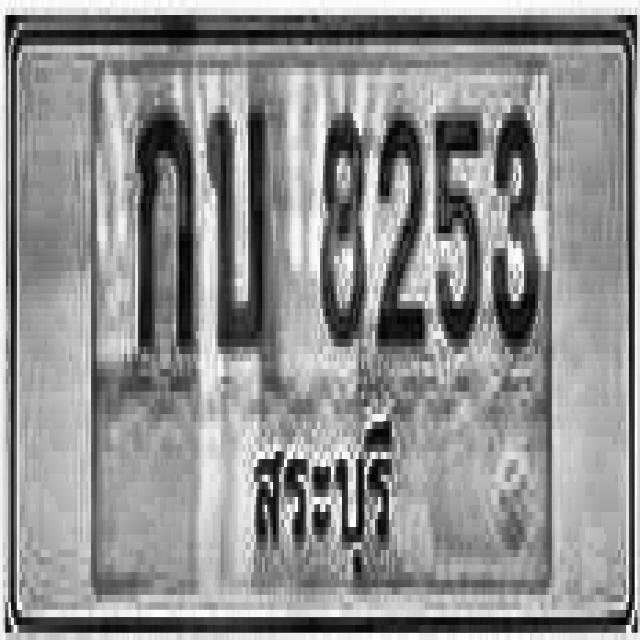license-plate: (11, 28, 632, 629)
